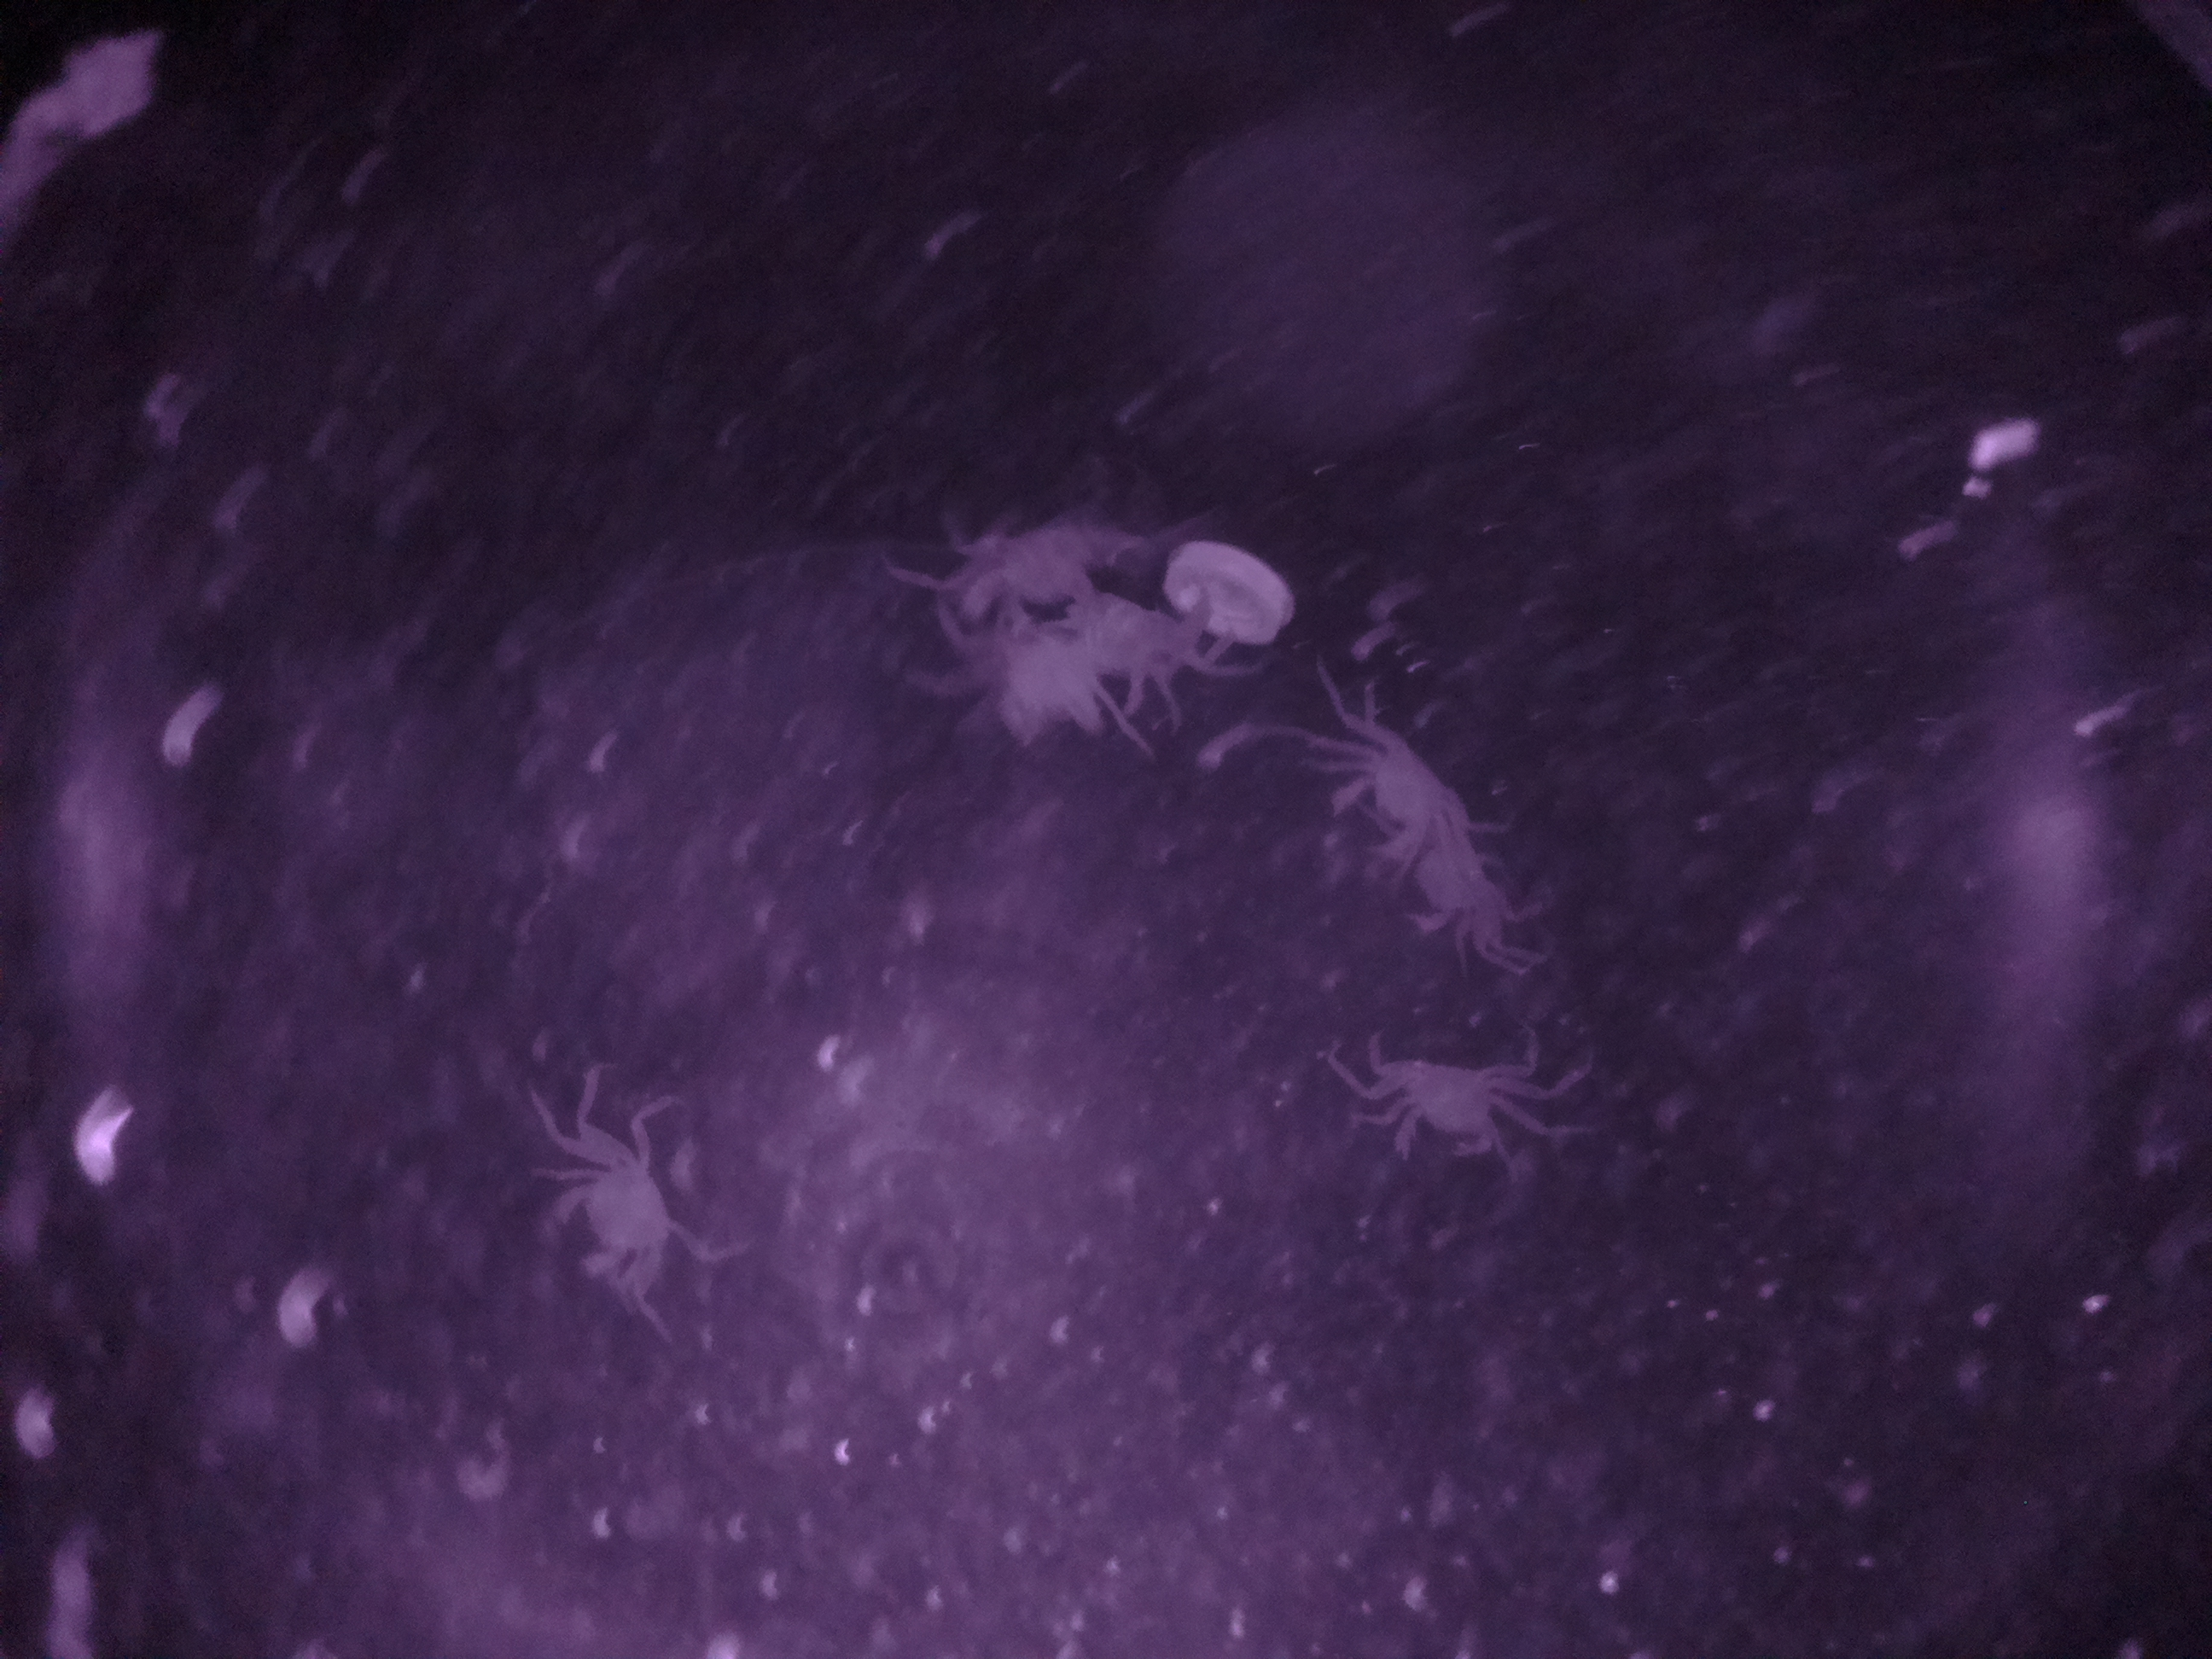Crab: (1310, 1012, 1604, 1176), (529, 1072, 705, 1328)
